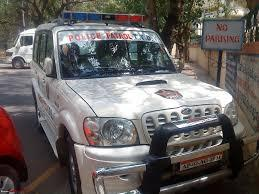Emergency-Vehicles: (24, 1, 236, 194)
